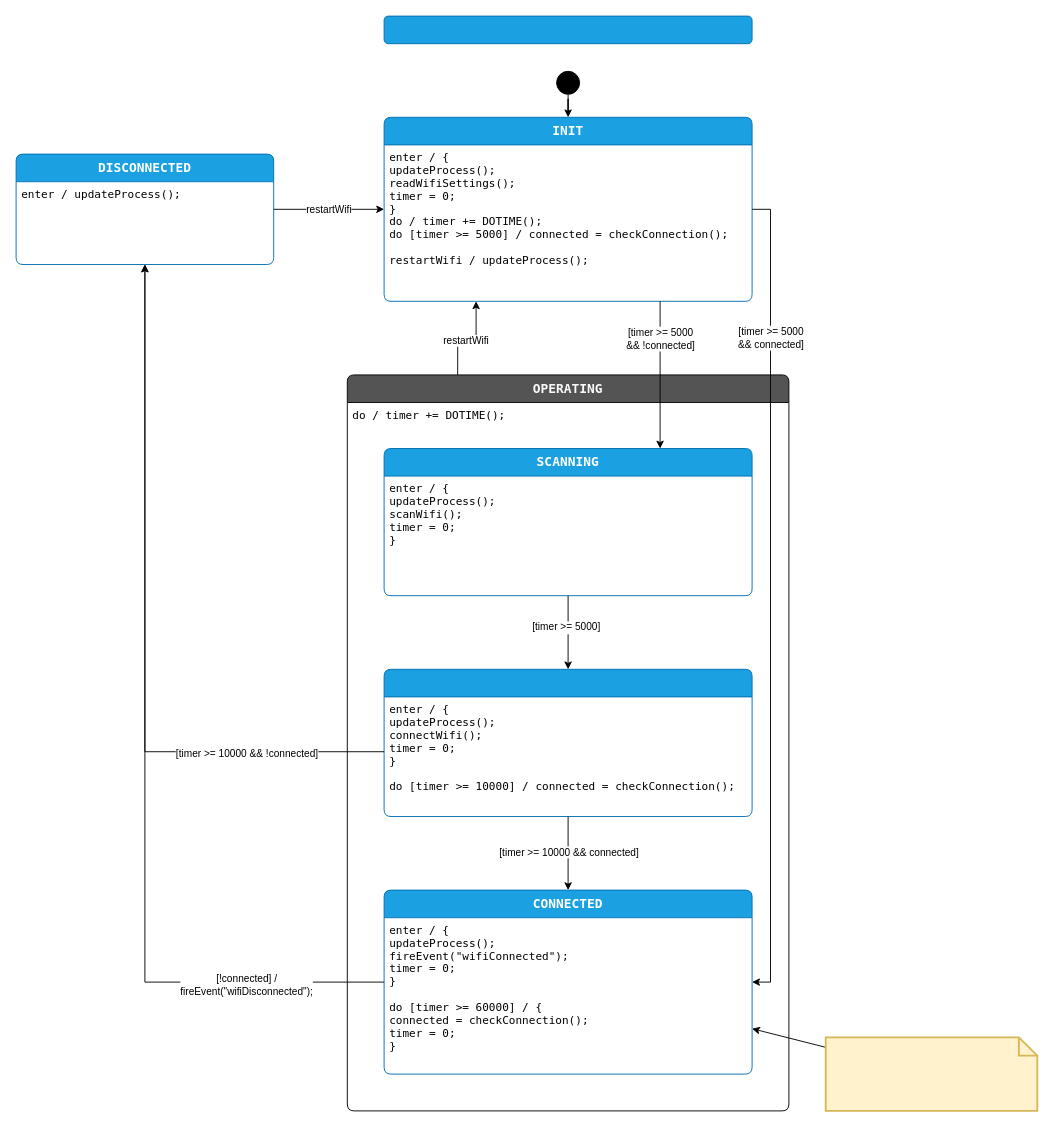
Some shapes in this 1054 by 1128 pixel diagram are drawn without their labels. Each missing label, with the box of its shape:
$STATEMACHINE : {fileName}: (383, 15, 752, 44)
CONNECTING: (383, 668, 752, 816)
Once connected, check if still connected every 1 minute: (824, 1036, 1038, 1111)
